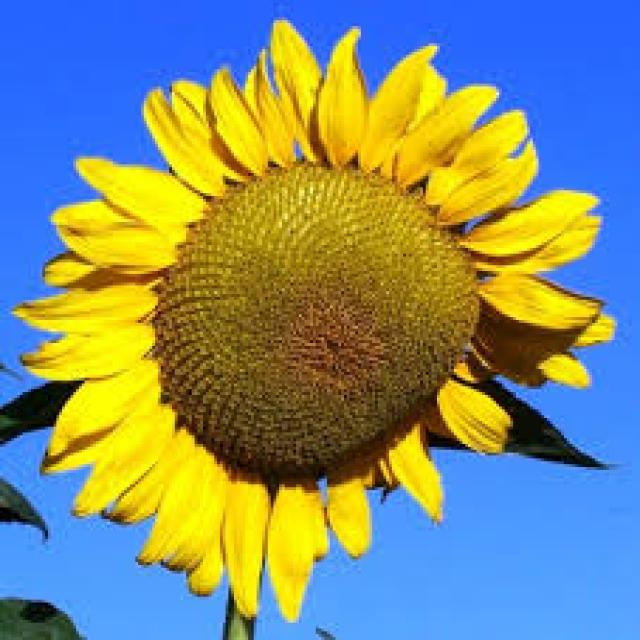sunflower: (22, 12, 626, 611)
